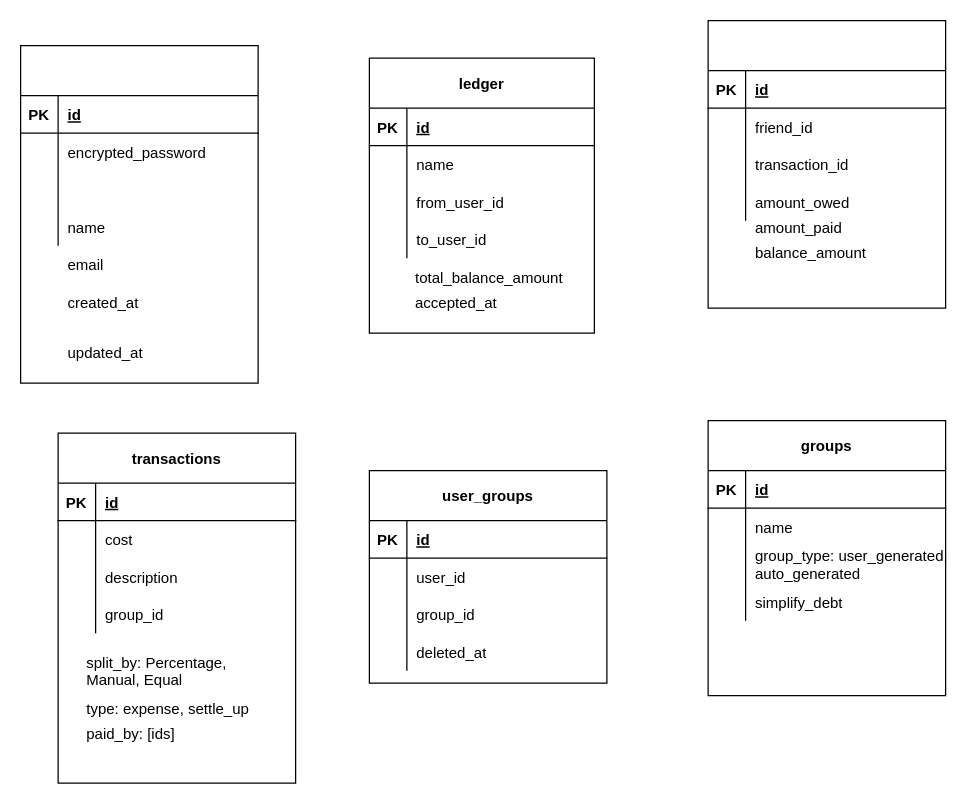
Image size: 969x804. Some labels were removed from this diagram. Each missing label, with the box of its shape:
friend_transactions: (707, 19, 946, 308)
users: (19, 44, 258, 383)
